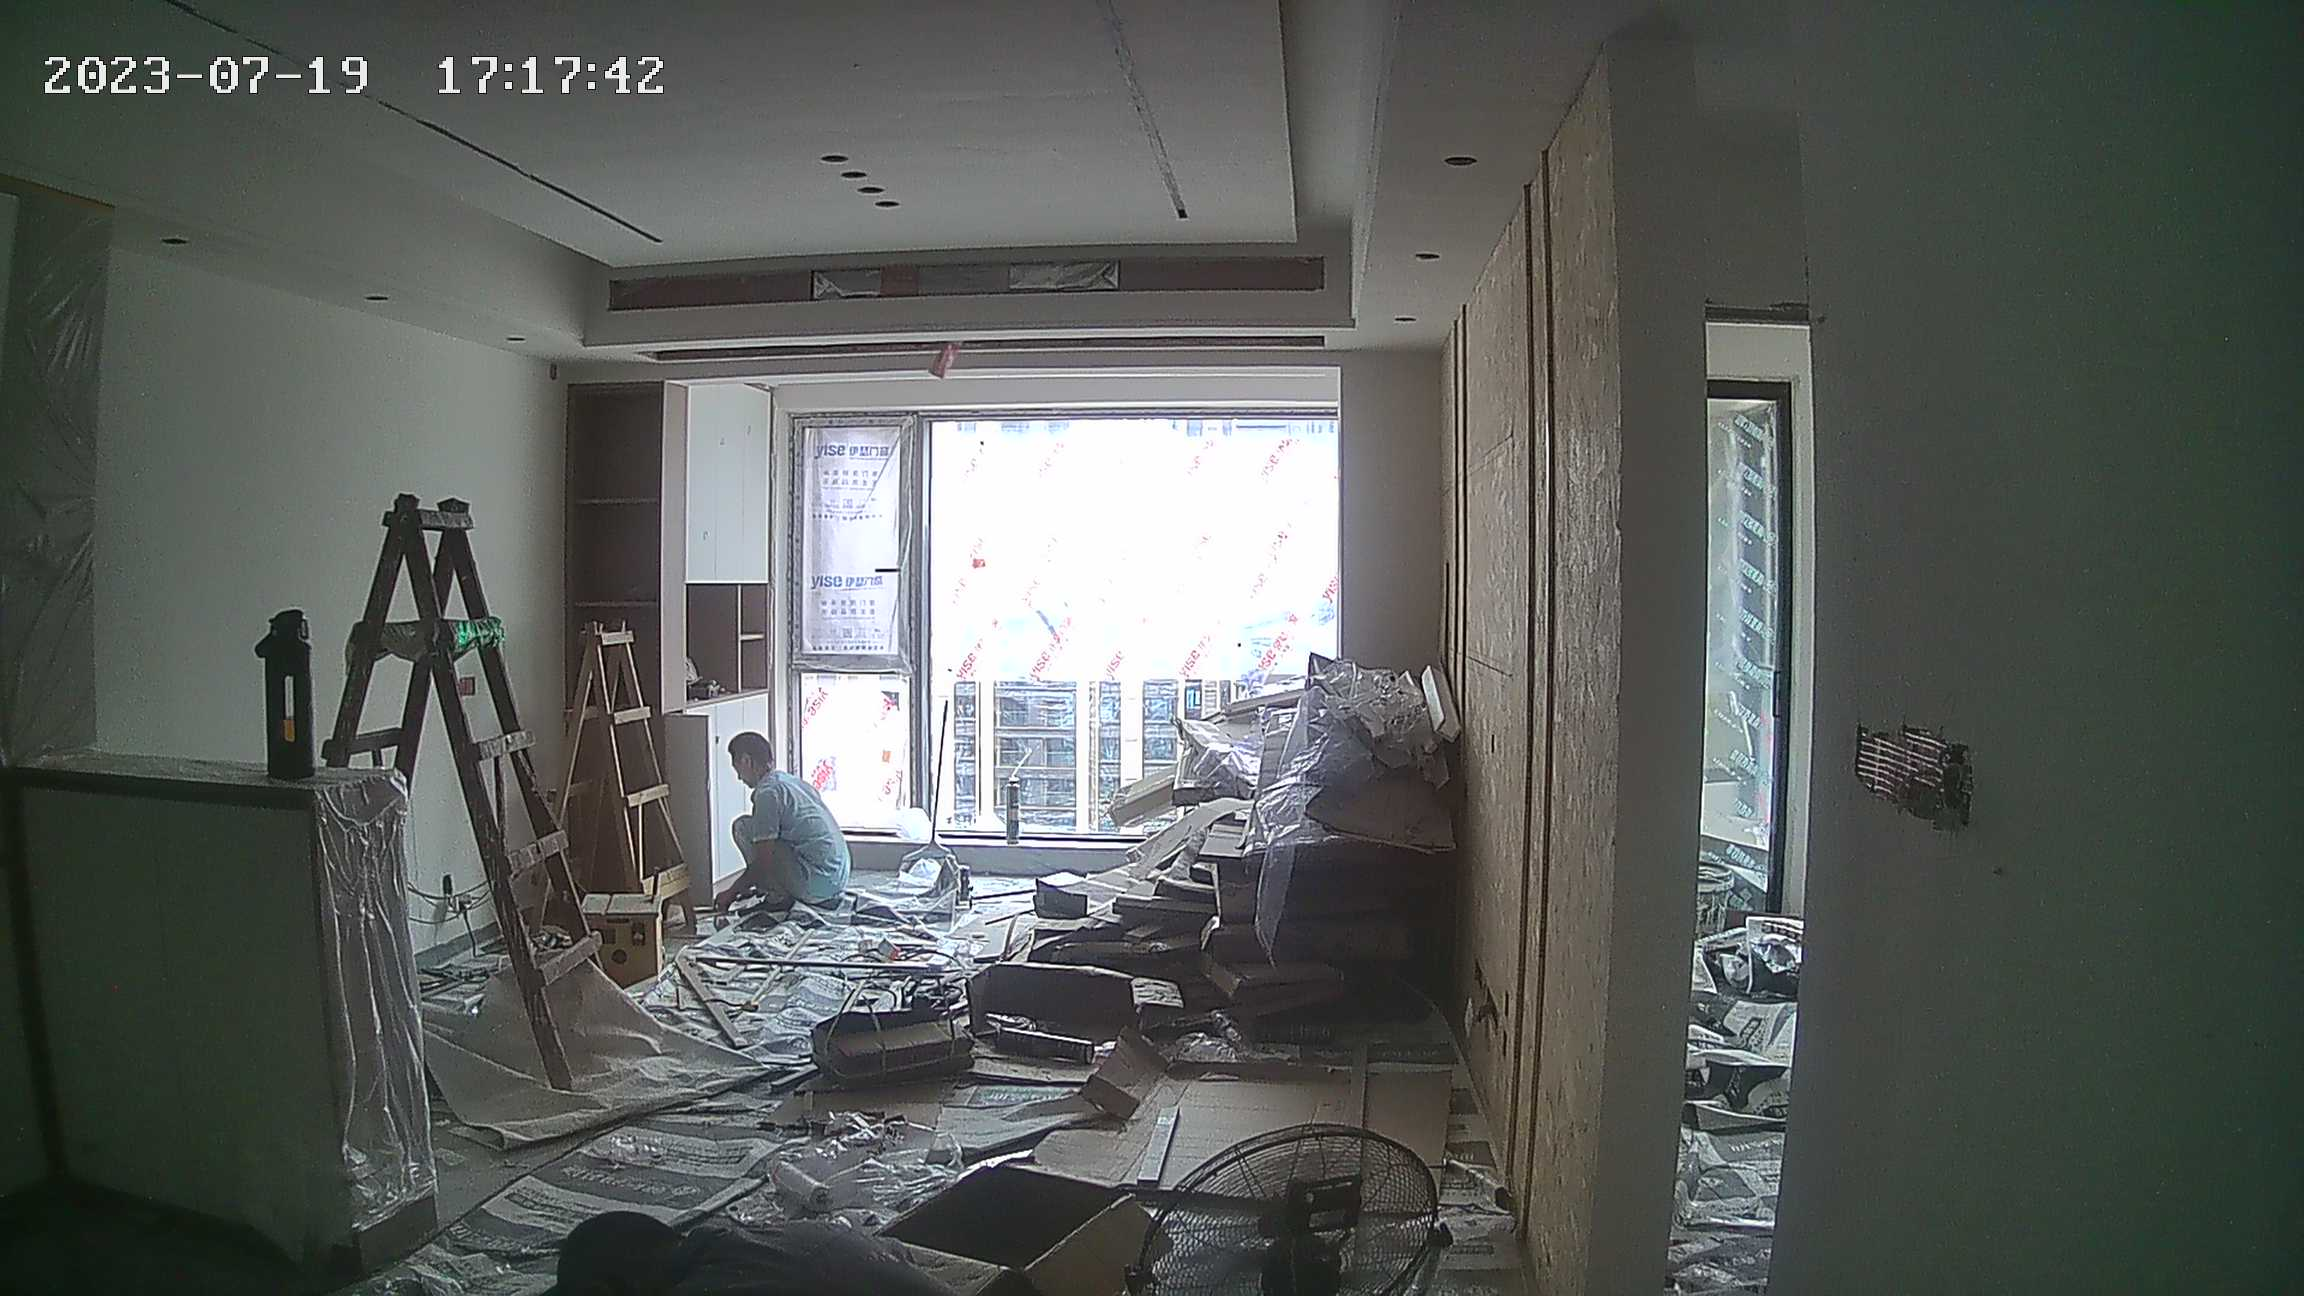people: (715, 730, 850, 930)
window: (784, 404, 1346, 845), (1708, 393, 1779, 906)
